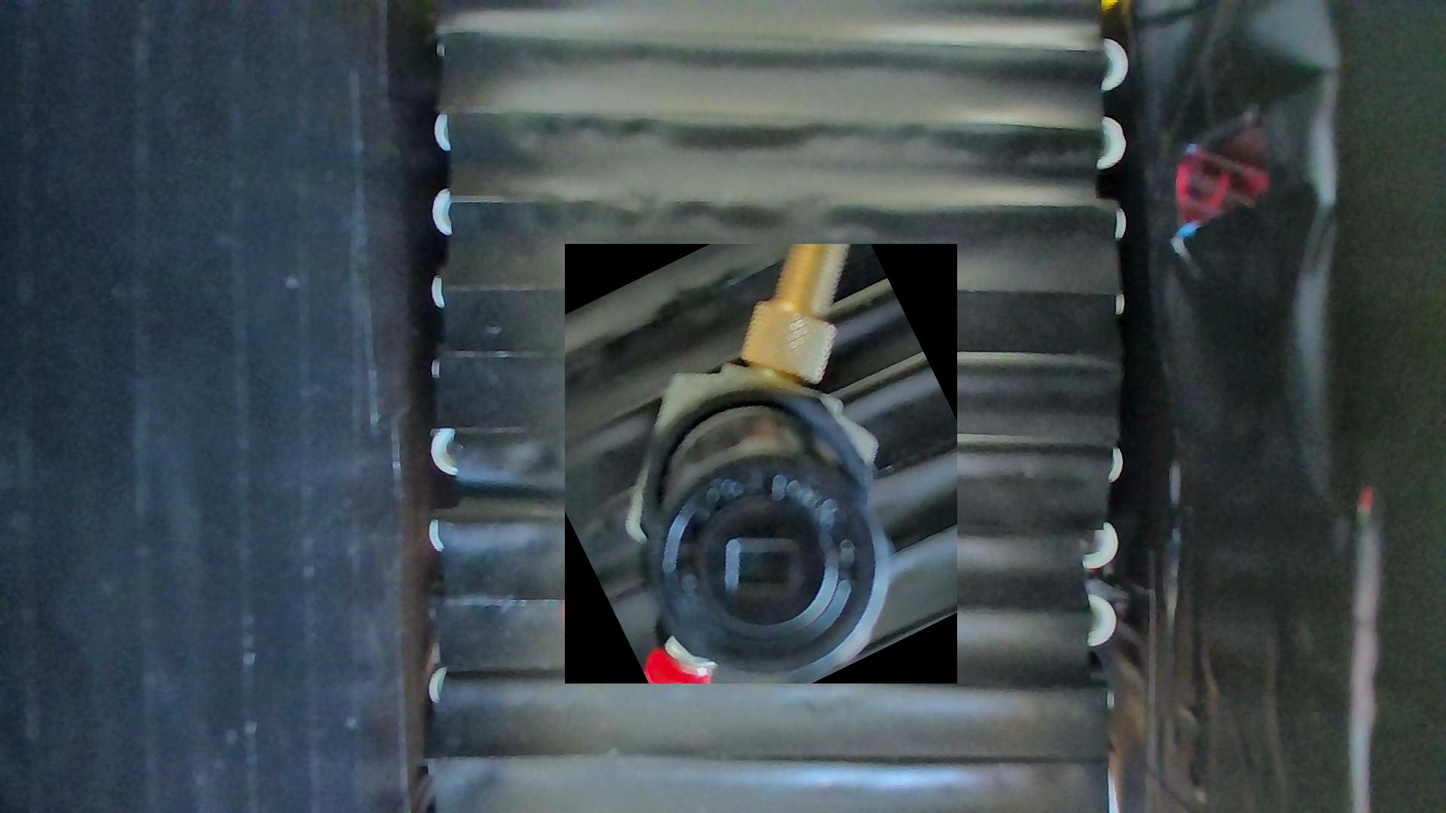regulator: (565, 244, 957, 684)
